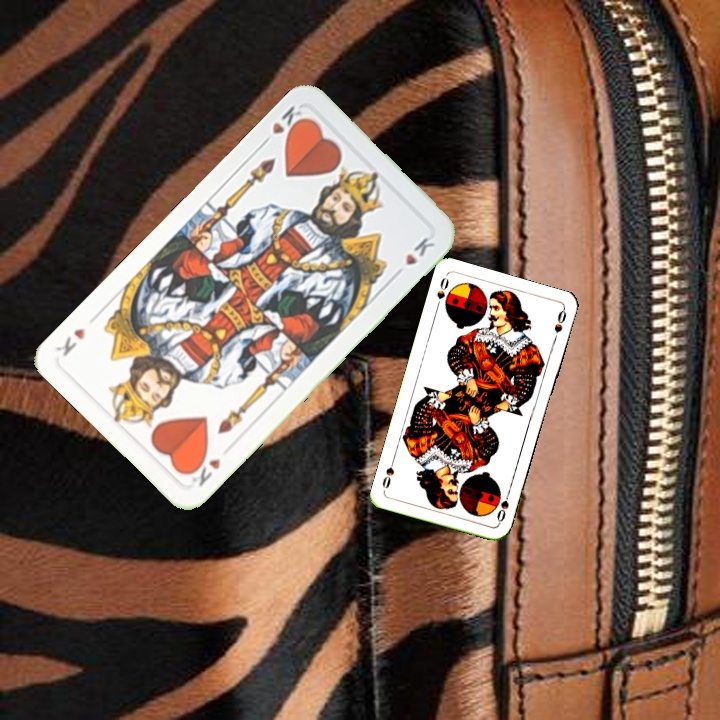HK: (257, 102, 310, 149), (182, 450, 224, 490)
SO: (493, 486, 513, 526), (432, 272, 451, 311)
